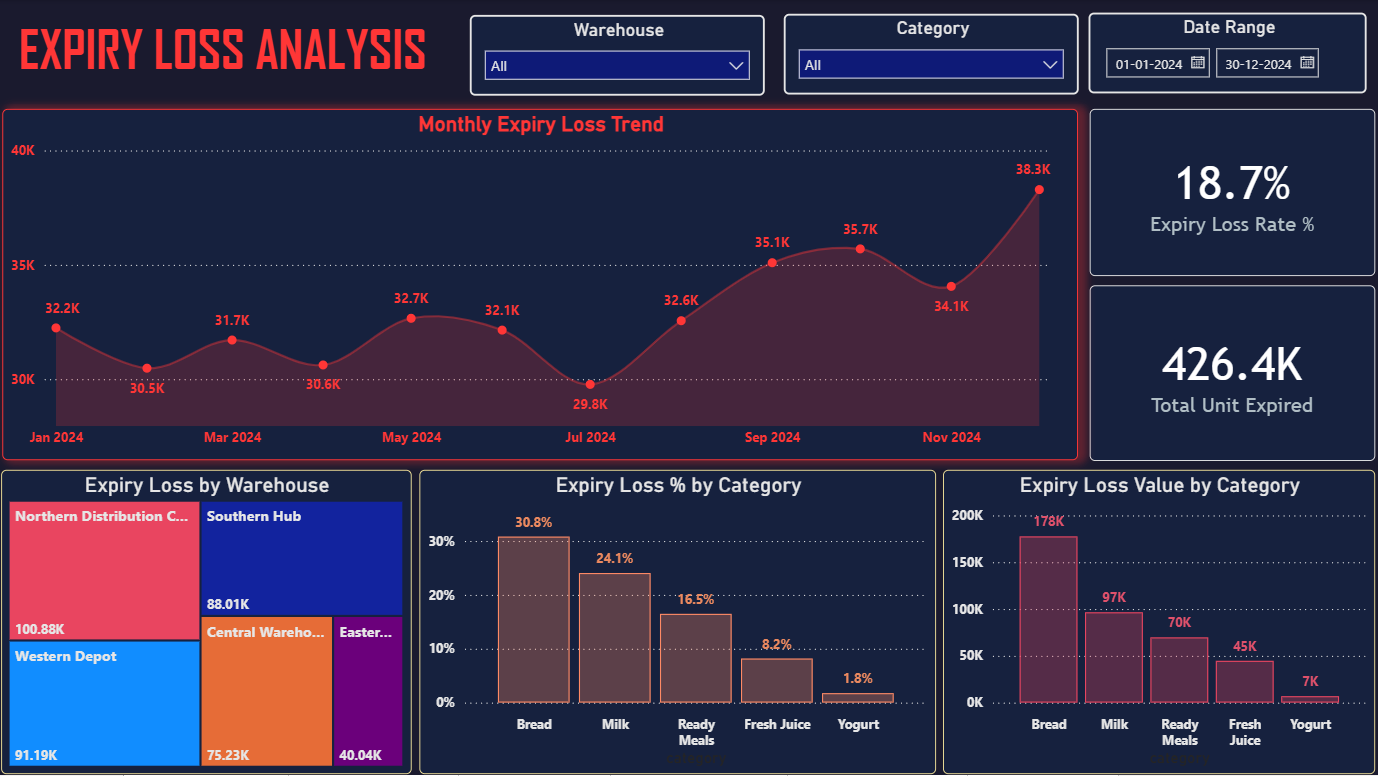

This screenshot's page, from the dashboard's own definition file:
{"tool":"powerbi","page":{"name":"Expiry Loss Analysis","canvas":[1280,720],"ordinal":1},"visuals":[{"type":"treemap","title":"Expiry Loss by Warehouse ","fields":{"Group":["dim_warehouses.warehouse_name"],"Values":["_Measures.Total Expiry Loss"]},"box":[1.1,436.4,381.1,283.1],"z":0},{"type":"columnChart","title":" Expiry Loss Value by Category","fields":{"Category":["dim_products.category"],"Y":["_Measures.Total Expiry Loss"]},"box":[876,436.4,401.3,283.1],"z":1000},{"type":"card","fields":{"Values":["_Measures.Total Unit Expired"]},"box":[1012.3,265,265,162.9],"z":2000},{"type":"lineChart","title":" Monthly Expiry Loss Trend ","fields":{"Y":["_Measures.Total Expiry Loss"],"Category":["fact_inventory_adjustments.adjustment_date.Variation.Date Hierarchy.Year","fact_inventory_adjustments.adjustment_date.Variation.Date Hierarchy.Month"]},"box":[2.1,101.1,999.5,326.8],"z":3000},{"type":"textbox","box":[12.8,11.7,417.2,74.5],"z":4000},{"type":"card","fields":{"Values":["_Measures.Expiry Loss Rate %"]},"box":[1012.3,101.1,265,155.4],"z":5000},{"type":"columnChart","title":" Expiry Loss % by Category","fields":{"Category":["dim_products.category"],"Y":["_Measures.Expiry Loss Rate %"]},"box":[389.6,436.4,480.1,283.1],"z":6000},{"type":"slicer","title":"Warehouse","fields":{"Values":["dim_warehouses.Warehouse Name"]},"box":[436.2,14.2,274,74.8],"z":7000},{"type":"slicer","title":"Category","fields":{"Values":["dim_products.category"]},"box":[728,13.1,274,74.8],"z":8000},{"type":"slicer","title":"Date Range","fields":{"Values":["fact_sales.sale_date"]},"box":[1011.6,12.1,258.5,74.8],"z":9000}]}

Visuals, with their boxes in screenshot pixels (x1, y1, x2, y2), scaled from the page's 1280x720 canvas onto the 1378x776 screenshot:
"Expiry Loss by Warehouse " treemap: rect(1, 470, 411, 775)
" Expiry Loss Value by Category" columnChart: rect(943, 470, 1375, 775)
card - _Measures.Total Unit Expired: rect(1090, 286, 1375, 461)
" Monthly Expiry Loss Trend " lineChart: rect(2, 109, 1078, 461)
textbox: rect(14, 13, 463, 93)
card - _Measures.Expiry Loss Rate %: rect(1090, 109, 1375, 276)
" Expiry Loss % by Category" columnChart: rect(419, 470, 936, 775)
"Warehouse" slicer: rect(470, 15, 765, 96)
"Category" slicer: rect(784, 14, 1079, 95)
"Date Range" slicer: rect(1089, 13, 1367, 94)
